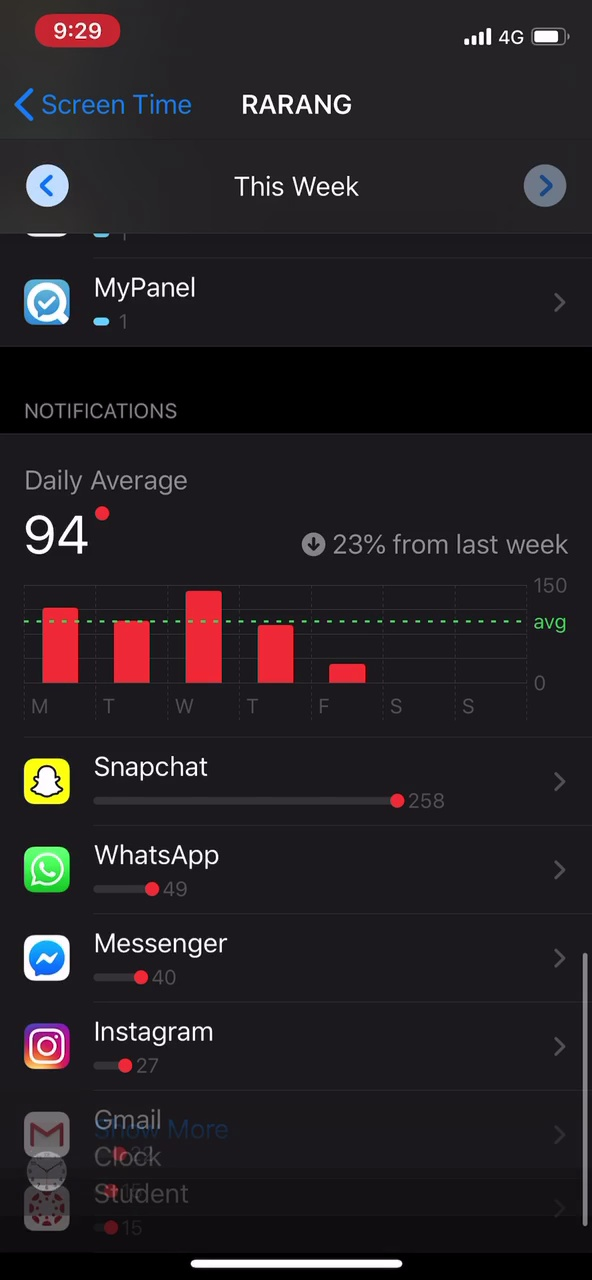not_app: (9, 744, 457, 817), (17, 838, 306, 911), (17, 925, 292, 989), (20, 1013, 275, 1082)
not_over: (15, 397, 245, 561)
pick_app: (15, 260, 267, 357)
week: (209, 169, 368, 201)
